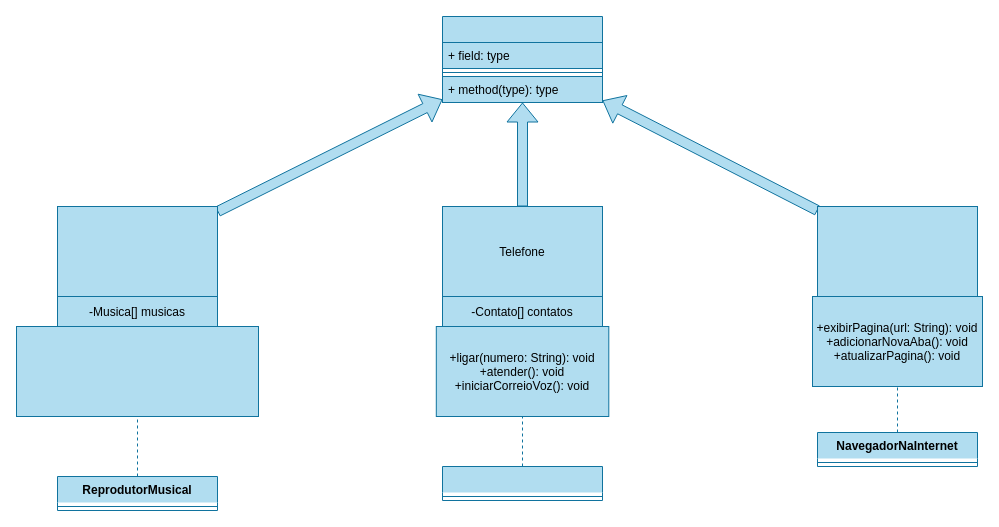
This 999x527 diagram has some shape labels left out. Here are the shapes that lost their labels. From the top down, the box of each, then its label:
(442, 16, 602, 102): iPhone
(56, 206, 218, 296): Reprodução
(816, 206, 978, 296): Internet
(16, 326, 258, 416): +tocar(): void +pausar(): void +selecionarMusica(musica: String): void
(442, 466, 602, 500): AparelhoTelefonico
